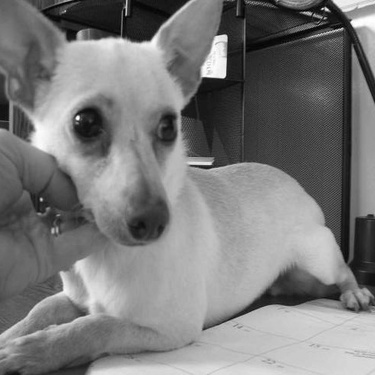dog: (2, 1, 372, 371)
